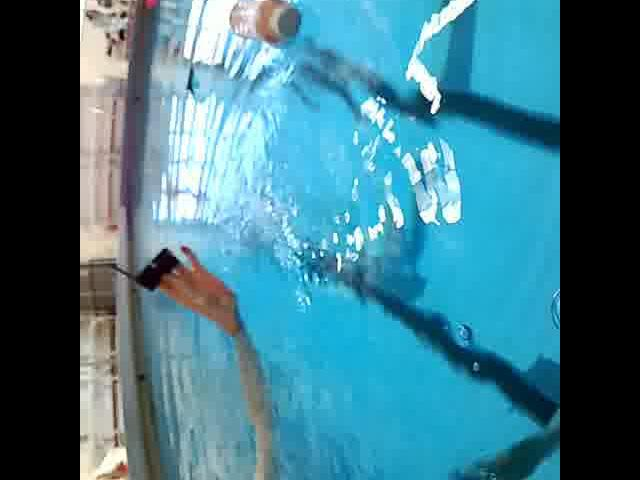Bottle: (227, 0, 304, 51)
CamMount: (108, 242, 184, 292), (184, 64, 204, 106)
